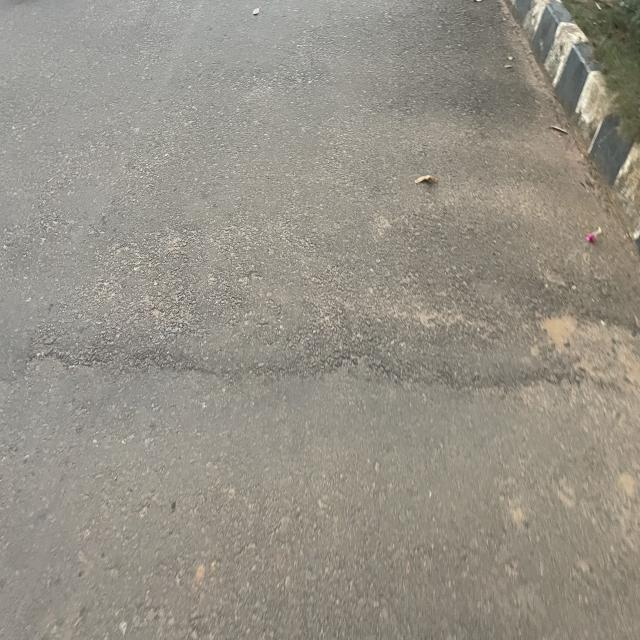D11: (28, 291, 640, 435)
